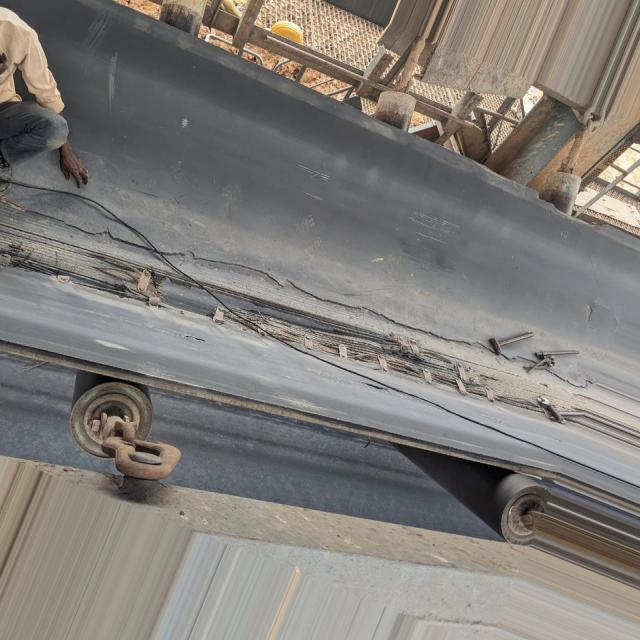Human: (0, 3, 95, 190)
Other Objects: (485, 318, 590, 377)
Roller: (395, 443, 549, 548), (65, 363, 156, 460)
Tear: (21, 212, 588, 422)
